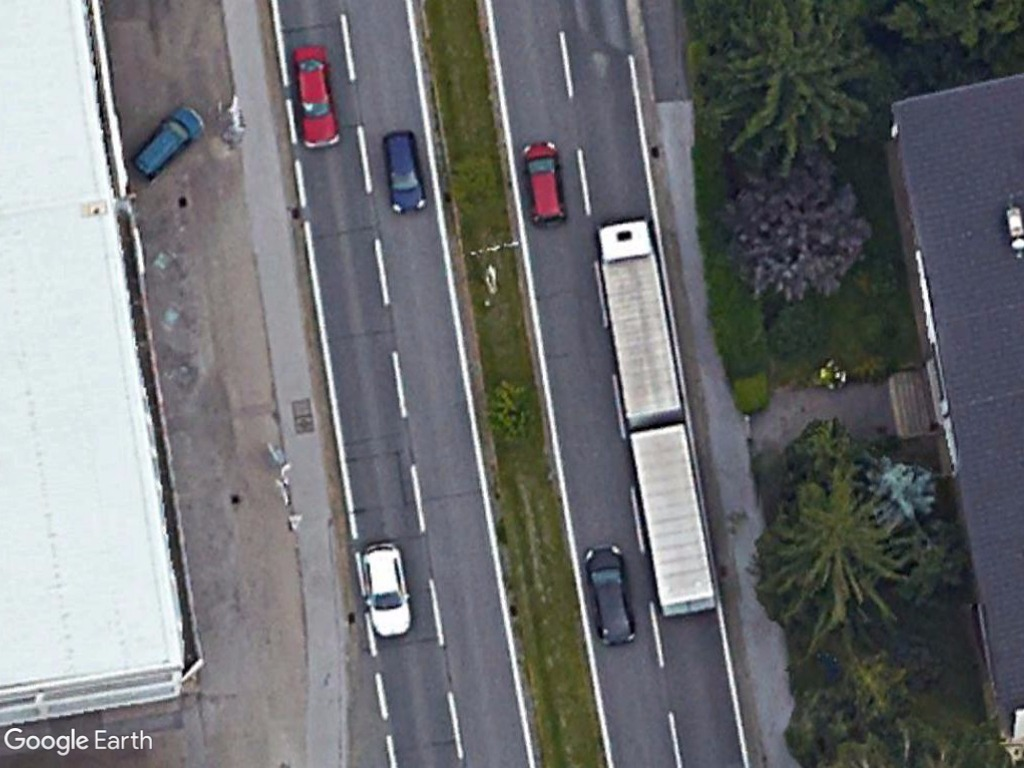car: (578, 537, 642, 652), (125, 102, 211, 186), (354, 535, 416, 642), (286, 42, 344, 156), (518, 135, 574, 232), (375, 124, 432, 219)
truck: (590, 211, 688, 430)
